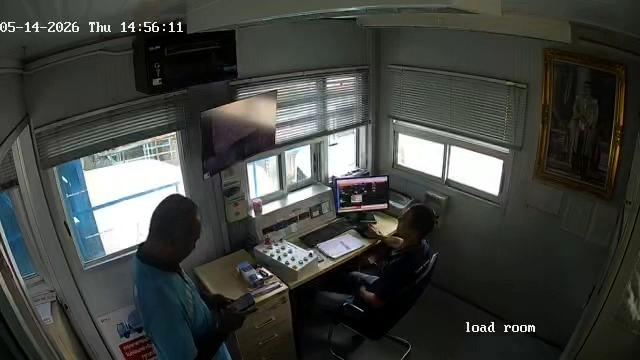Head: (147, 194, 201, 260), (394, 203, 431, 243)
People: (134, 191, 249, 359), (343, 199, 433, 287)
Phone: (225, 292, 256, 313)
